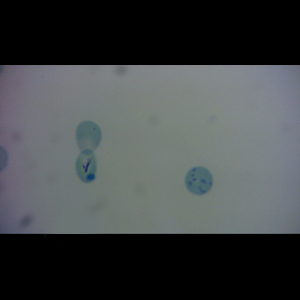aggregate reticulocyte: (183, 165, 215, 196)
erythrocyte: (74, 148, 99, 185)
punctate reticulocyte: (74, 120, 103, 157)
